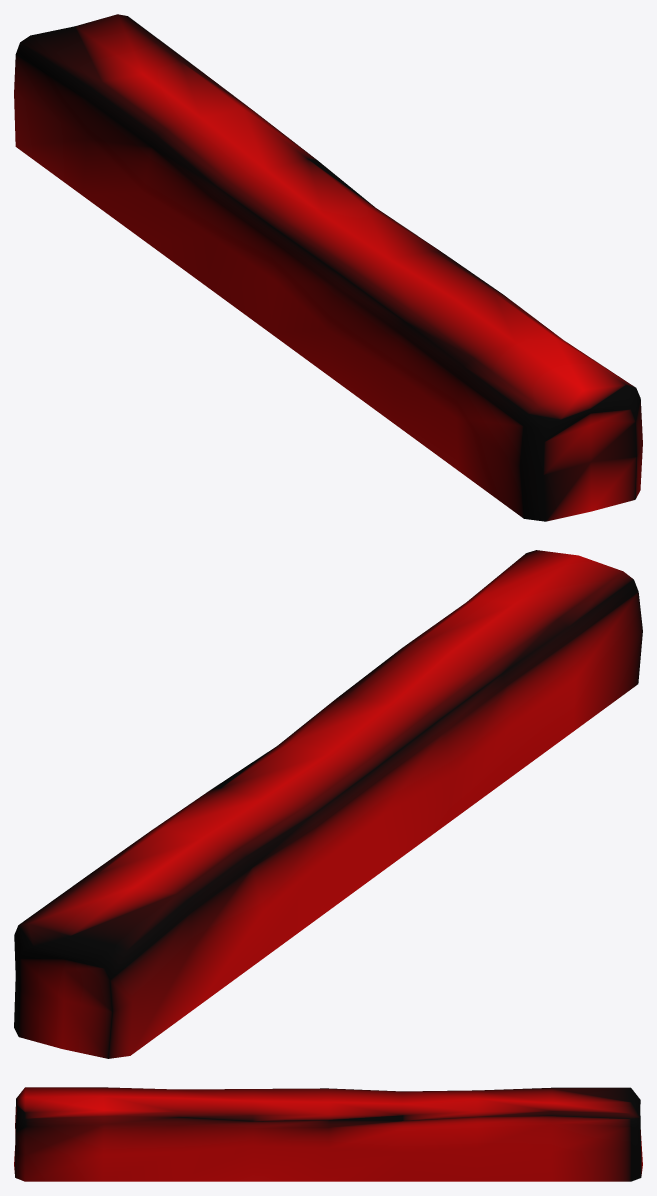
File: alley_edge_1.fbx
3 renders of one model, top to bottom at view 1: azimuth 30°, elevation 25°; view 2: azimuth 150°, elevation 25°; view 3: azimuth 270°, elevation 25°, orthographic. The views are drawn at different scales.
Visible parts, largest first — view 1: alley_edge_1; view 2: alley_edge_1; view 3: alley_edge_1.
Boxes of the visible parts, <box> form: alley_edge_1: <box>14,14,642,521</box>; alley_edge_1: <box>14,550,642,1058</box>; alley_edge_1: <box>14,1087,642,1181</box>.
Bounding box in the file's own units: 0.2824 × 0.2437 × 2.04.
